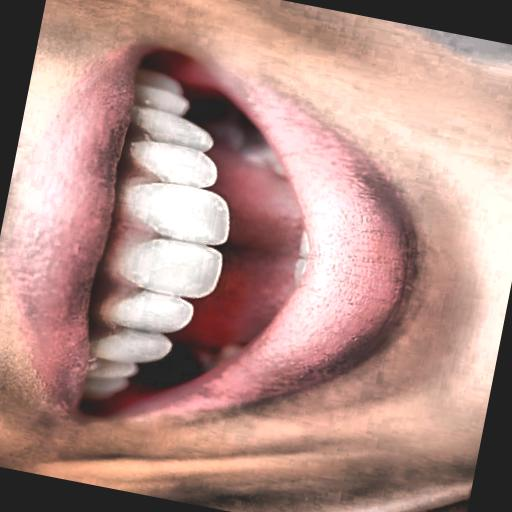Healthy: (34, 19, 355, 436)
